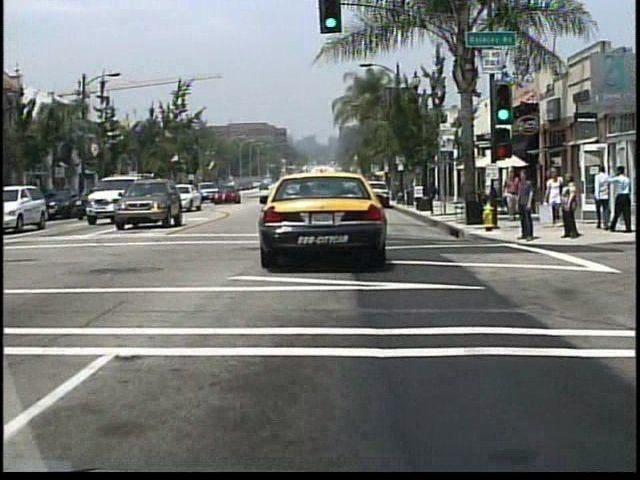person: (604, 166, 631, 234), (518, 168, 538, 242), (564, 173, 584, 240), (590, 162, 609, 231), (543, 168, 564, 229), (503, 171, 521, 223)
